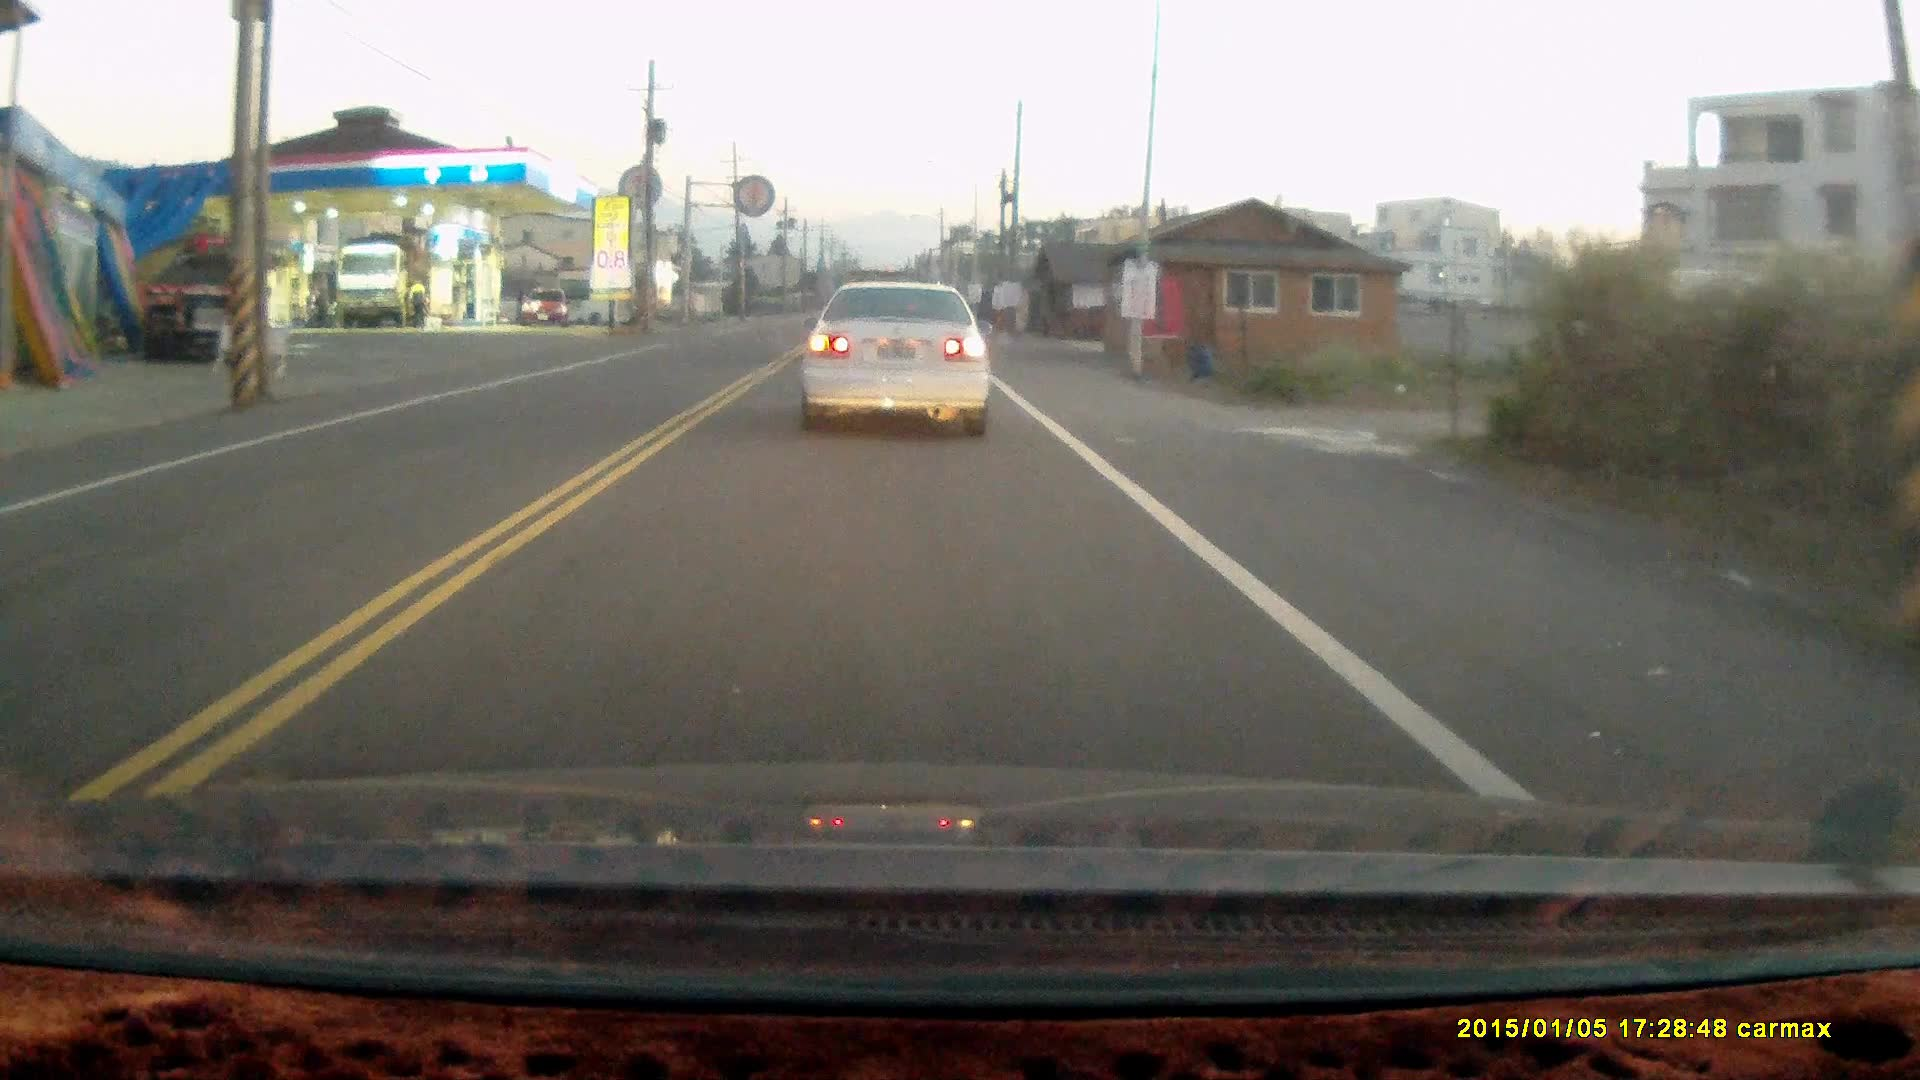pedestrian: (407, 275, 428, 325)
vehicle: (797, 283, 998, 443), (134, 234, 272, 369), (337, 244, 426, 334), (523, 287, 568, 327)
